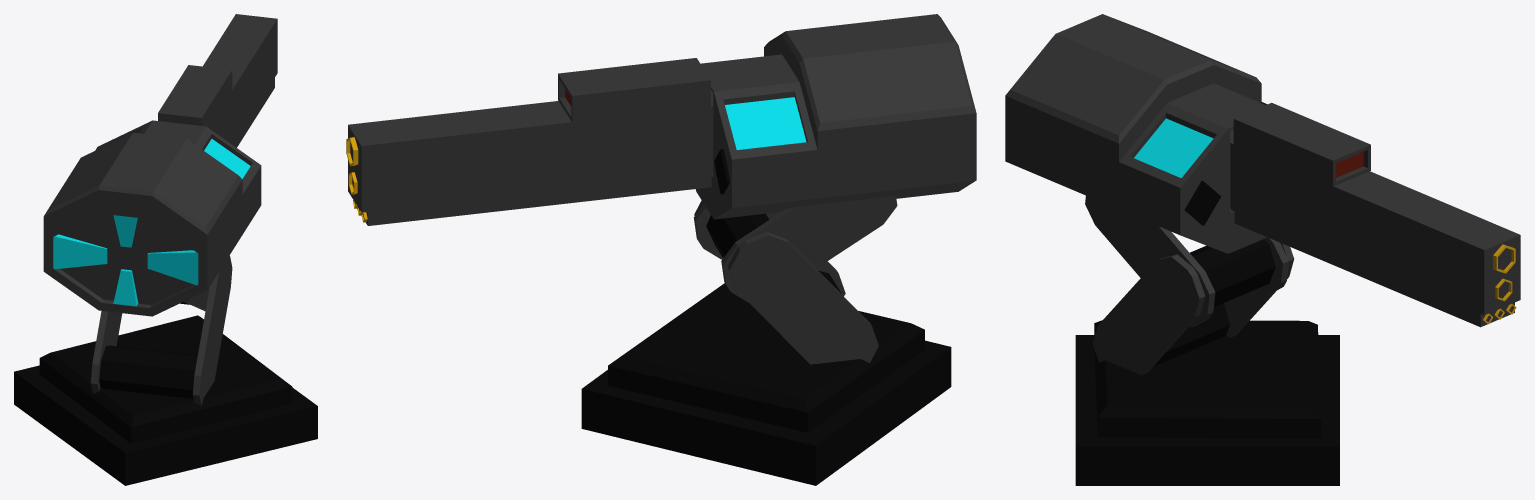
Rendered from common_1.glb.
The picture shows the model from 3 angles, left to right: view 1: azimuth 30°, elevation 25°; view 2: azimuth 150°, elevation 25°; view 3: azimuth 270°, elevation 25°; orthographic projection. The views are drawn at different scales.
Visible parts, largest first — view 1: StorageGunTurret1_primitive1, BaseRailGunTurret1, GunRailGunTurret1_primitive0, StorageGunTurret1_primitive2, MidleRailGunTurret1_primitive0, MidleRailGunTurret1_primitive1; view 2: BaseRailGunTurret1, GunRailGunTurret1_primitive0, StorageGunTurret1_primitive1, MidleRailGunTurret1_primitive0, StorageGunTurret1_primitive2, MidleRailGunTurret1_primitive1; view 3: BaseRailGunTurret1, StorageGunTurret1_primitive1, GunRailGunTurret1_primitive0, MidleRailGunTurret1_primitive0, MidleRailGunTurret1_primitive1, StorageGunTurret1_primitive2, StorageGunTurret1_primitive0, GunRailGunTurret1_primitive2.
Boxes of the visible parts, left/top/right/bottom form: StorageGunTurret1_primitive1: left=43, top=120, right=261, bottom=316; BaseRailGunTurret1: left=14, top=315, right=317, bottom=485; GunRailGunTurret1_primitive0: left=158, top=14, right=277, bottom=147; StorageGunTurret1_primitive2: left=53, top=139, right=250, bottom=306; MidleRailGunTurret1_primitive0: left=90, top=255, right=232, bottom=405; MidleRailGunTurret1_primitive1: left=99, top=302, right=197, bottom=398; BaseRailGunTurret1: left=581, top=283, right=951, bottom=485; GunRailGunTurret1_primitive0: left=348, top=58, right=713, bottom=225; StorageGunTurret1_primitive1: left=695, top=14, right=976, bottom=219; MidleRailGunTurret1_primitive0: left=693, top=195, right=897, bottom=364; StorageGunTurret1_primitive2: left=725, top=97, right=806, bottom=149; MidleRailGunTurret1_primitive1: left=706, top=213, right=842, bottom=294; BaseRailGunTurret1: left=1075, top=320, right=1339, bottom=485; StorageGunTurret1_primitive1: left=1005, top=14, right=1267, bottom=253; GunRailGunTurret1_primitive0: left=1230, top=102, right=1520, bottom=327; MidleRailGunTurret1_primitive0: left=1085, top=195, right=1294, bottom=375; MidleRailGunTurret1_primitive1: left=1153, top=239, right=1275, bottom=366; StorageGunTurret1_primitive2: left=1134, top=118, right=1213, bottom=178; StorageGunTurret1_primitive0: left=1184, top=180, right=1221, bottom=225; GunRailGunTurret1_primitive2: left=1483, top=244, right=1516, bottom=324.
Size of the model in its own units: 0.8896 by 0.6699 by 0.8896.
